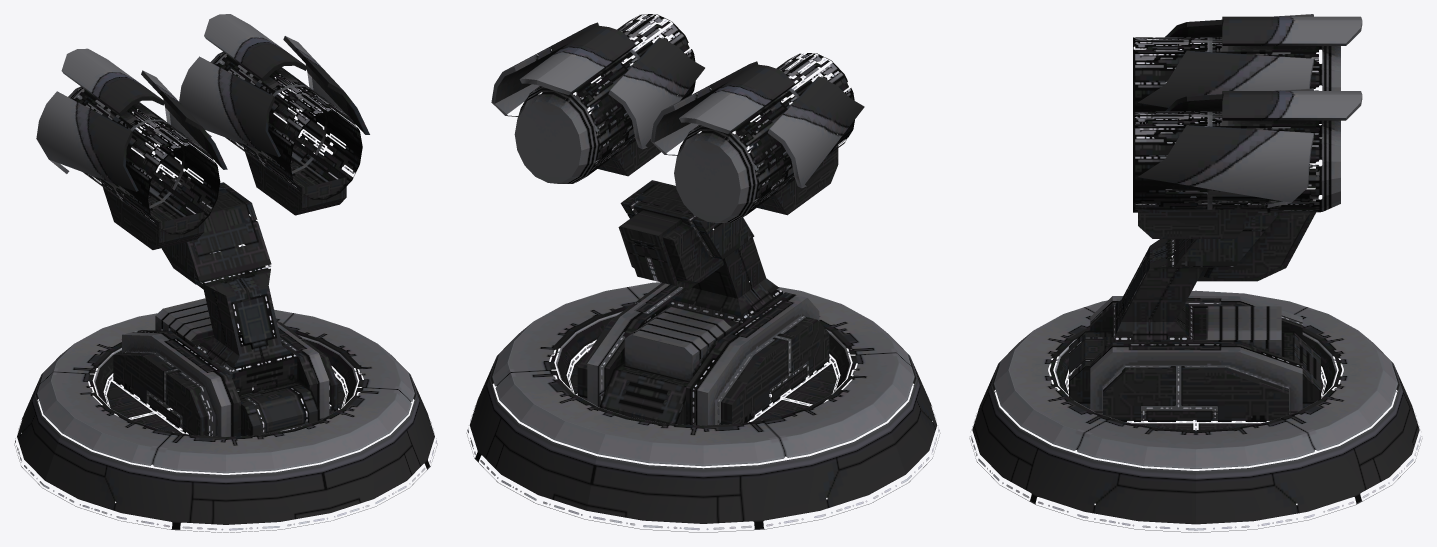
File: Aeon_Missile_Turret_optimized.obj
3 renders of one model, left to right at view 1: azimuth 30°, elevation 25°; view 2: azimuth 150°, elevation 25°; view 3: azimuth 270°, elevation 25°, orthographic. The views are drawn at different scales.
Size of the model in its own units: 15.88 by 14.67 by 15.88.
1 material, 1 textured.
